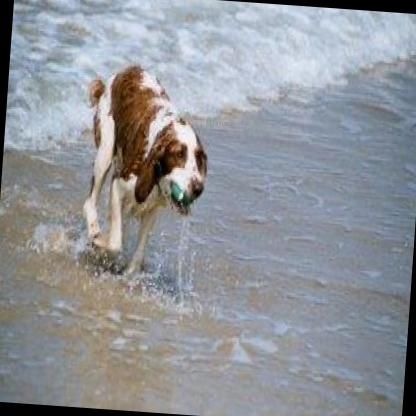Welsh_springer_spaniel: (74, 58, 211, 290)
